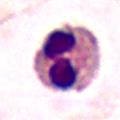eosi: (30, 20, 103, 93)
